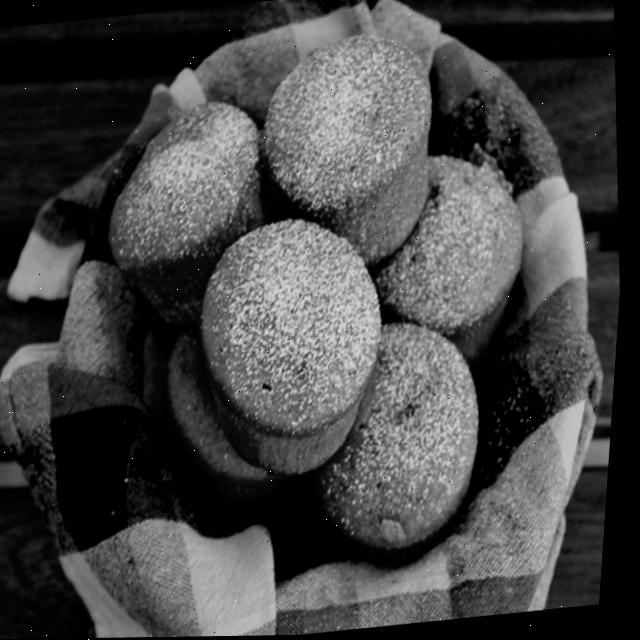炸货点心: (23, 0, 625, 627)
面包点心: (23, 0, 625, 627)
